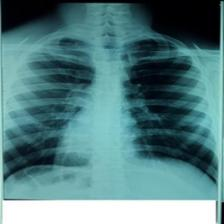tuberculosis: (1, 2, 218, 198)
